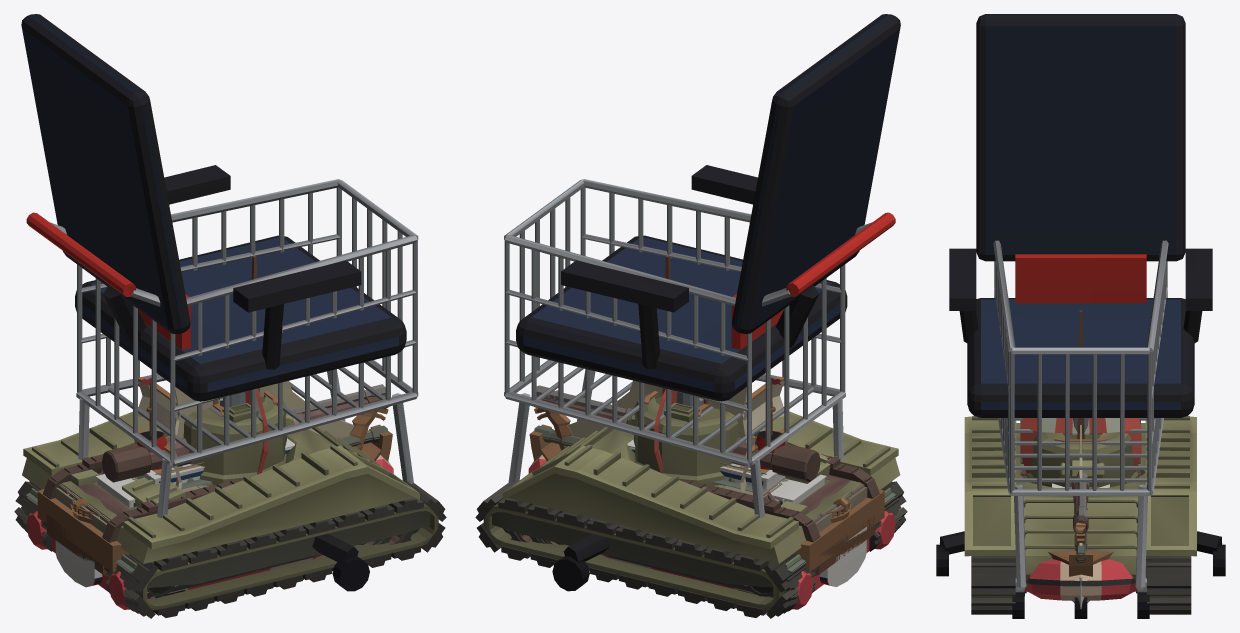
The model's file is rides.glb.
The picture shows the model from 3 angles, left to right: view 1: azimuth 30°, elevation 25°; view 2: azimuth 150°, elevation 25°; view 3: azimuth 270°, elevation 25°; orthographic projection. The views are drawn at different scales.
Parts seen in each view (by area): view 1: chair_m, tank3_m, cart_m, tank3_tur, tank4_m, boat_m, cruise_m, tank4_tur, lifeboat_m, chair_tur, sailboat_sail0, galleon_sail2 (+4 smaller); view 2: chair_m, tank3_m, cart_m, tank3_tur, tank4_m, cruise_m, boat_m, tank4_tur, lifeboat_m, chair_tur, sailboat_sail0, tank_m (+4 smaller); view 3: chair_m, tank3_m, cart_m, lifeboat_m, tank3_tur, viking_sail0, chair_tur, boat_m, sailboat_sail0.
Boxes of the visible parts, x1,y1,x2,y2 form: chair_m: (21,14,406,406); tank3_m: (14,396,446,618); cart_m: (26,179,418,518); tank3_tur: (176,384,385,484); tank4_m: (19,438,413,613); boat_m: (37,424,392,572); cruise_m: (55,431,294,587); tank4_tur: (102,394,389,482); lifeboat_m: (26,455,393,609); chair_tur: (155,533,369,597); sailboat_sail0: (175,256,370,438); galleon_sail2: (134,377,181,488); chair_m: (516,14,900,406); tank3_m: (475,396,907,618); cart_m: (504,179,895,517); tank3_tur: (536,385,738,484); tank4_m: (508,437,902,613); cruise_m: (627,430,866,586); boat_m: (529,424,884,572); tank4_tur: (534,398,820,481); lifeboat_m: (528,455,895,609); chair_tur: (552,534,766,596); sailboat_sail0: (551,255,746,437); tank_m: (529,425,898,611); chair_m: (949,14,1212,432); tank3_m: (964,416,1196,614); cart_m: (993,240,1168,618); lifeboat_m: (1024,559,1137,600); tank3_tur: (1026,432,1138,523); viking_sail0: (1020,418,1141,473); chair_tur: (936,531,1225,618); boat_m: (1048,550,1113,601); sailboat_sail0: (1077,310,1084,545).
Bounding box in the file's own units: 1 × 1.61 × 0.889.
